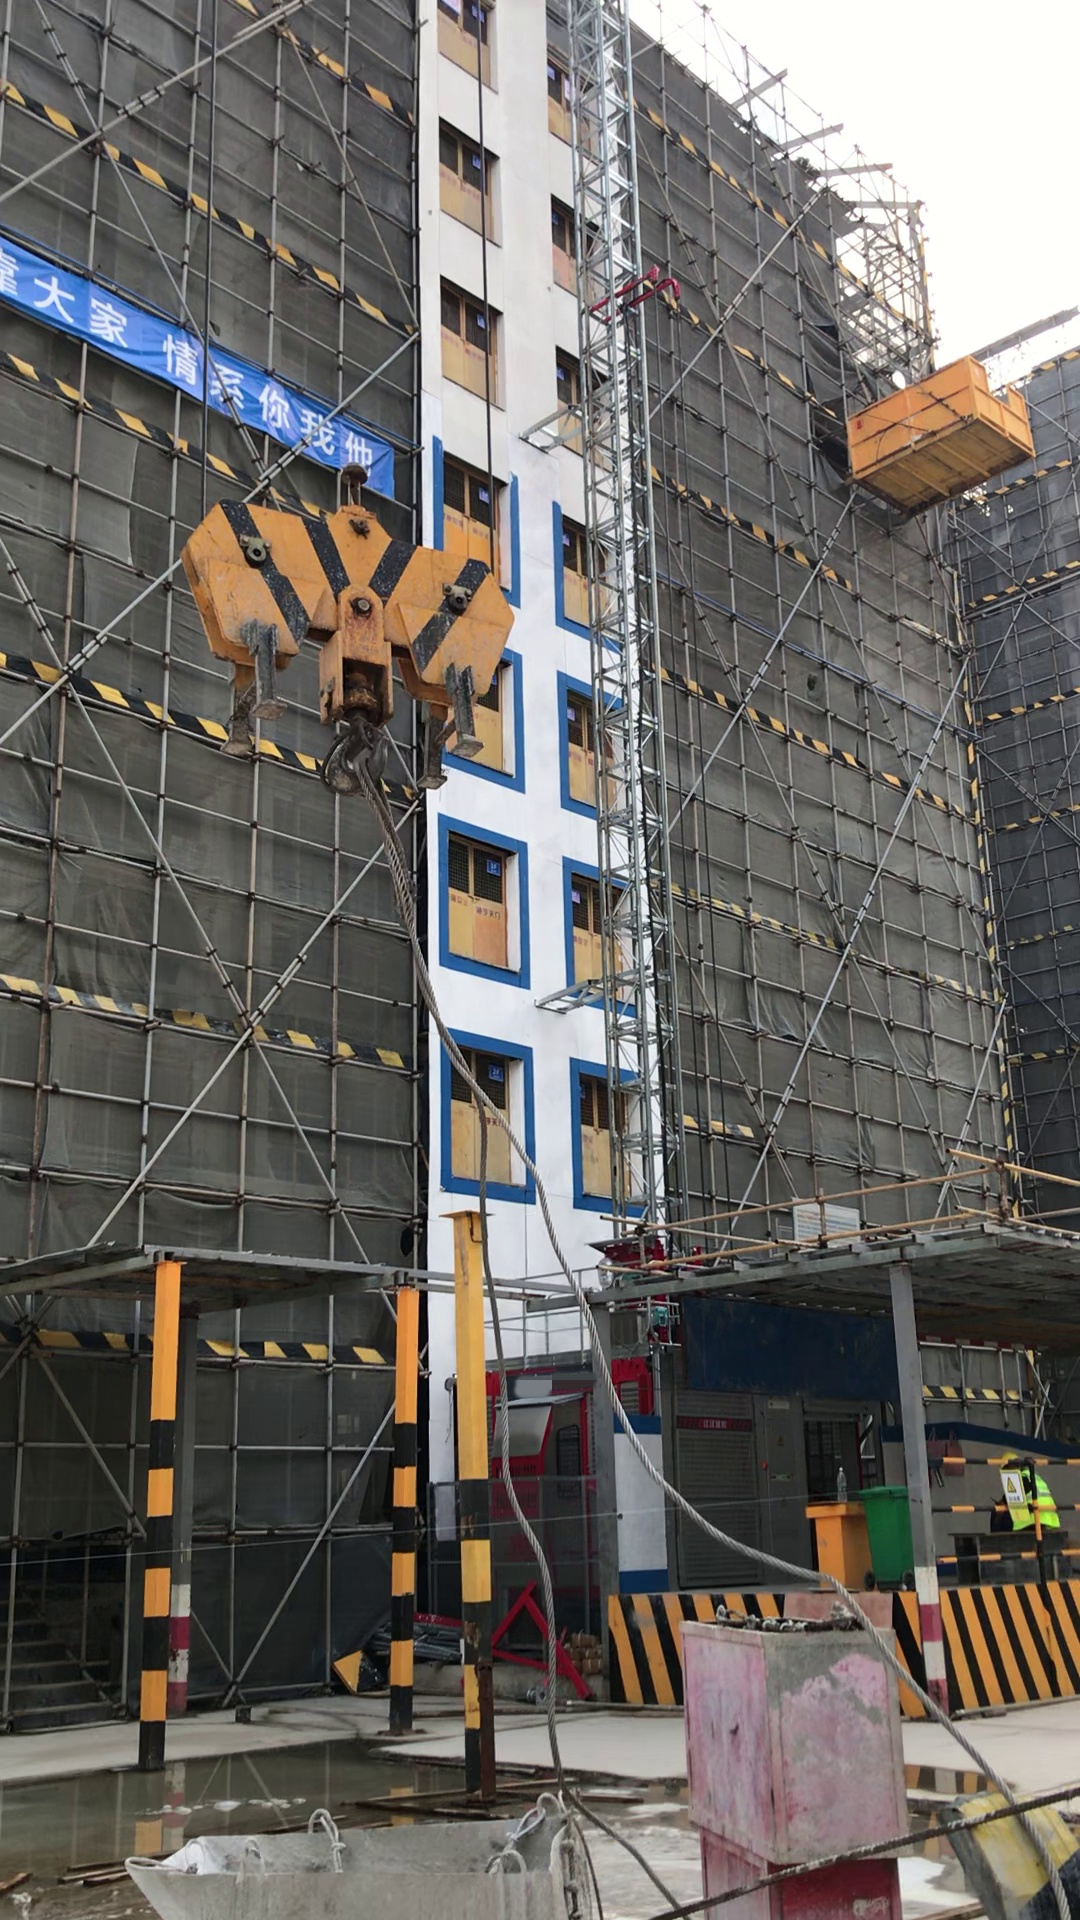ebox: (812, 1493, 867, 1590)
helmet: (999, 1451, 1021, 1469)
hook: (178, 432, 516, 770)
hopper: (116, 1787, 619, 1917)
person: (994, 1454, 1069, 1561)
slogan: (3, 253, 397, 495)
vest: (1009, 1478, 1059, 1526)
